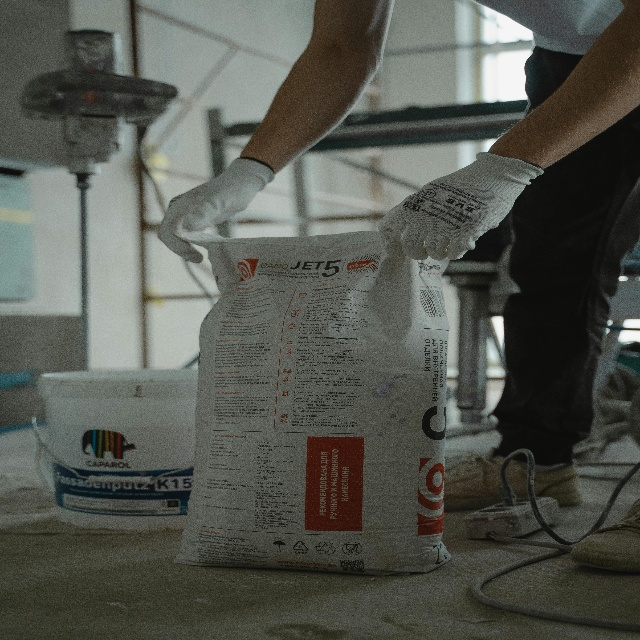Guantes: (379, 145, 543, 263), (160, 154, 276, 265)
